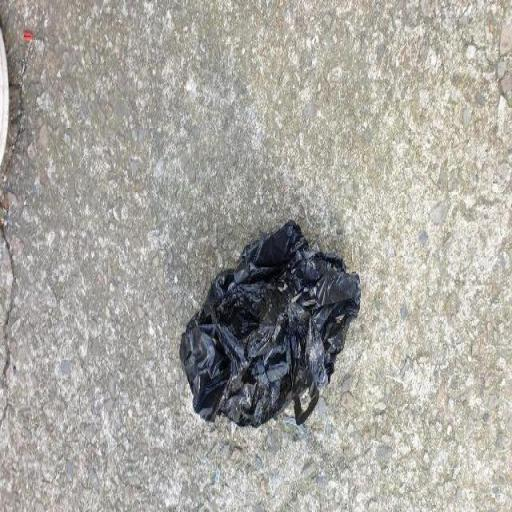plastic-bag: (176, 216, 362, 434)
